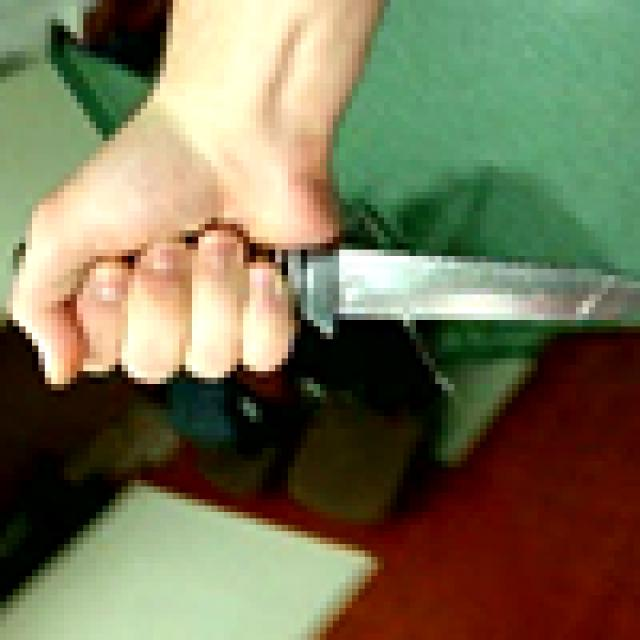Knife: (13, 224, 640, 384)
